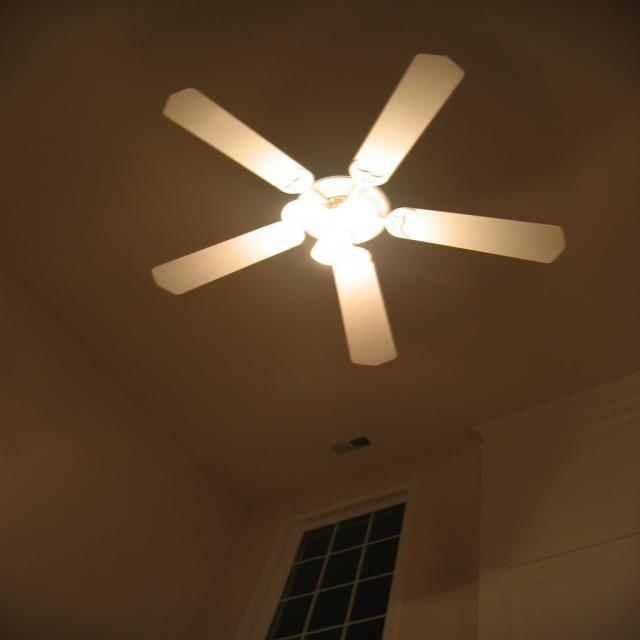fan_off: (156, 56, 573, 367)
